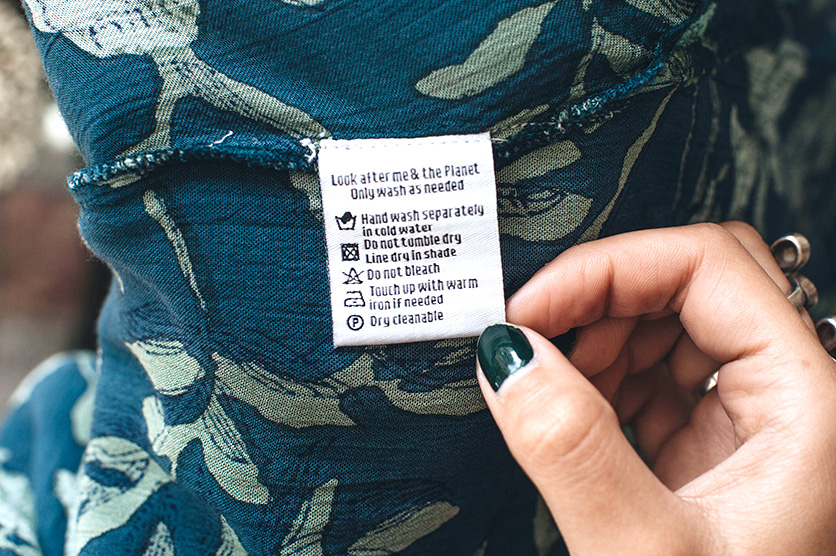do_not_bleach: (337, 265, 366, 287)
